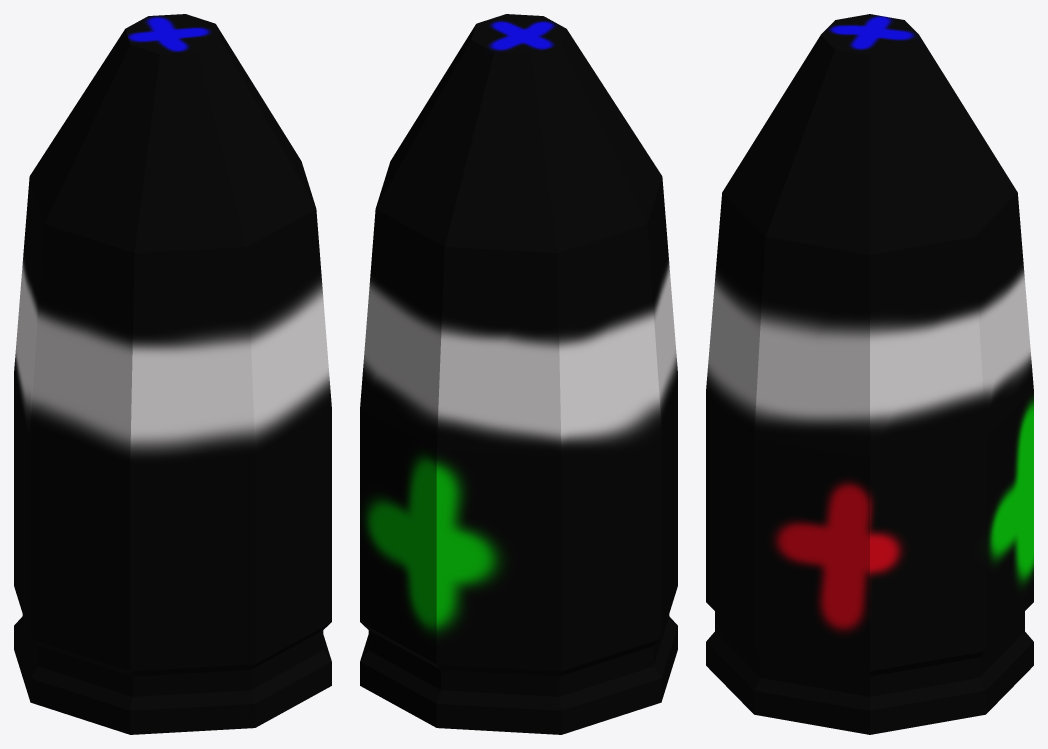
The model's file is ammoShell.fbx.
3 renders of one model, left to right at view 1: azimuth 30°, elevation 25°; view 2: azimuth 150°, elevation 25°; view 3: azimuth 270°, elevation 25°, orthographic.
Parts seen in each view (by area): view 1: Ammo Shell; view 2: Ammo Shell; view 3: Ammo Shell.
Part boxes in pixels (x1=…): Ammo Shell: x1=14, y1=14, x2=331, y2=734; Ammo Shell: x1=360, y1=14, x2=677, y2=734; Ammo Shell: x1=706, y1=14, x2=1033, y2=734.
Size of the model in its own units: 200 by 425 by 200.
Materials: 1 (1 with a texture image).
